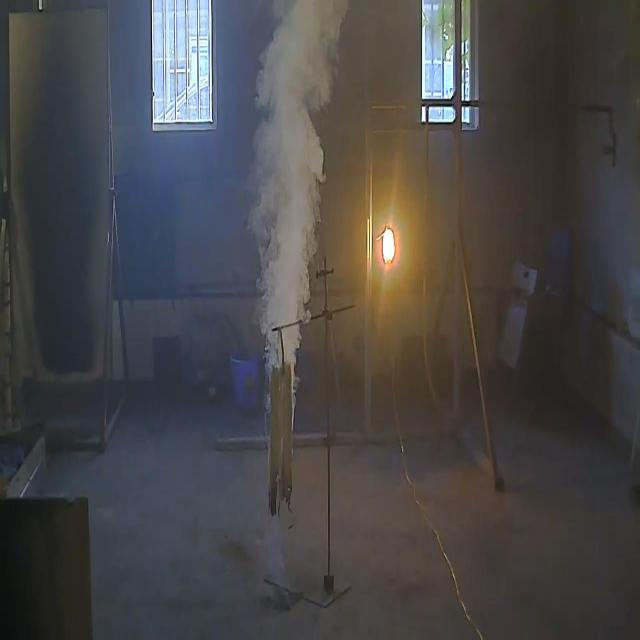smoke: (250, 3, 350, 364)
